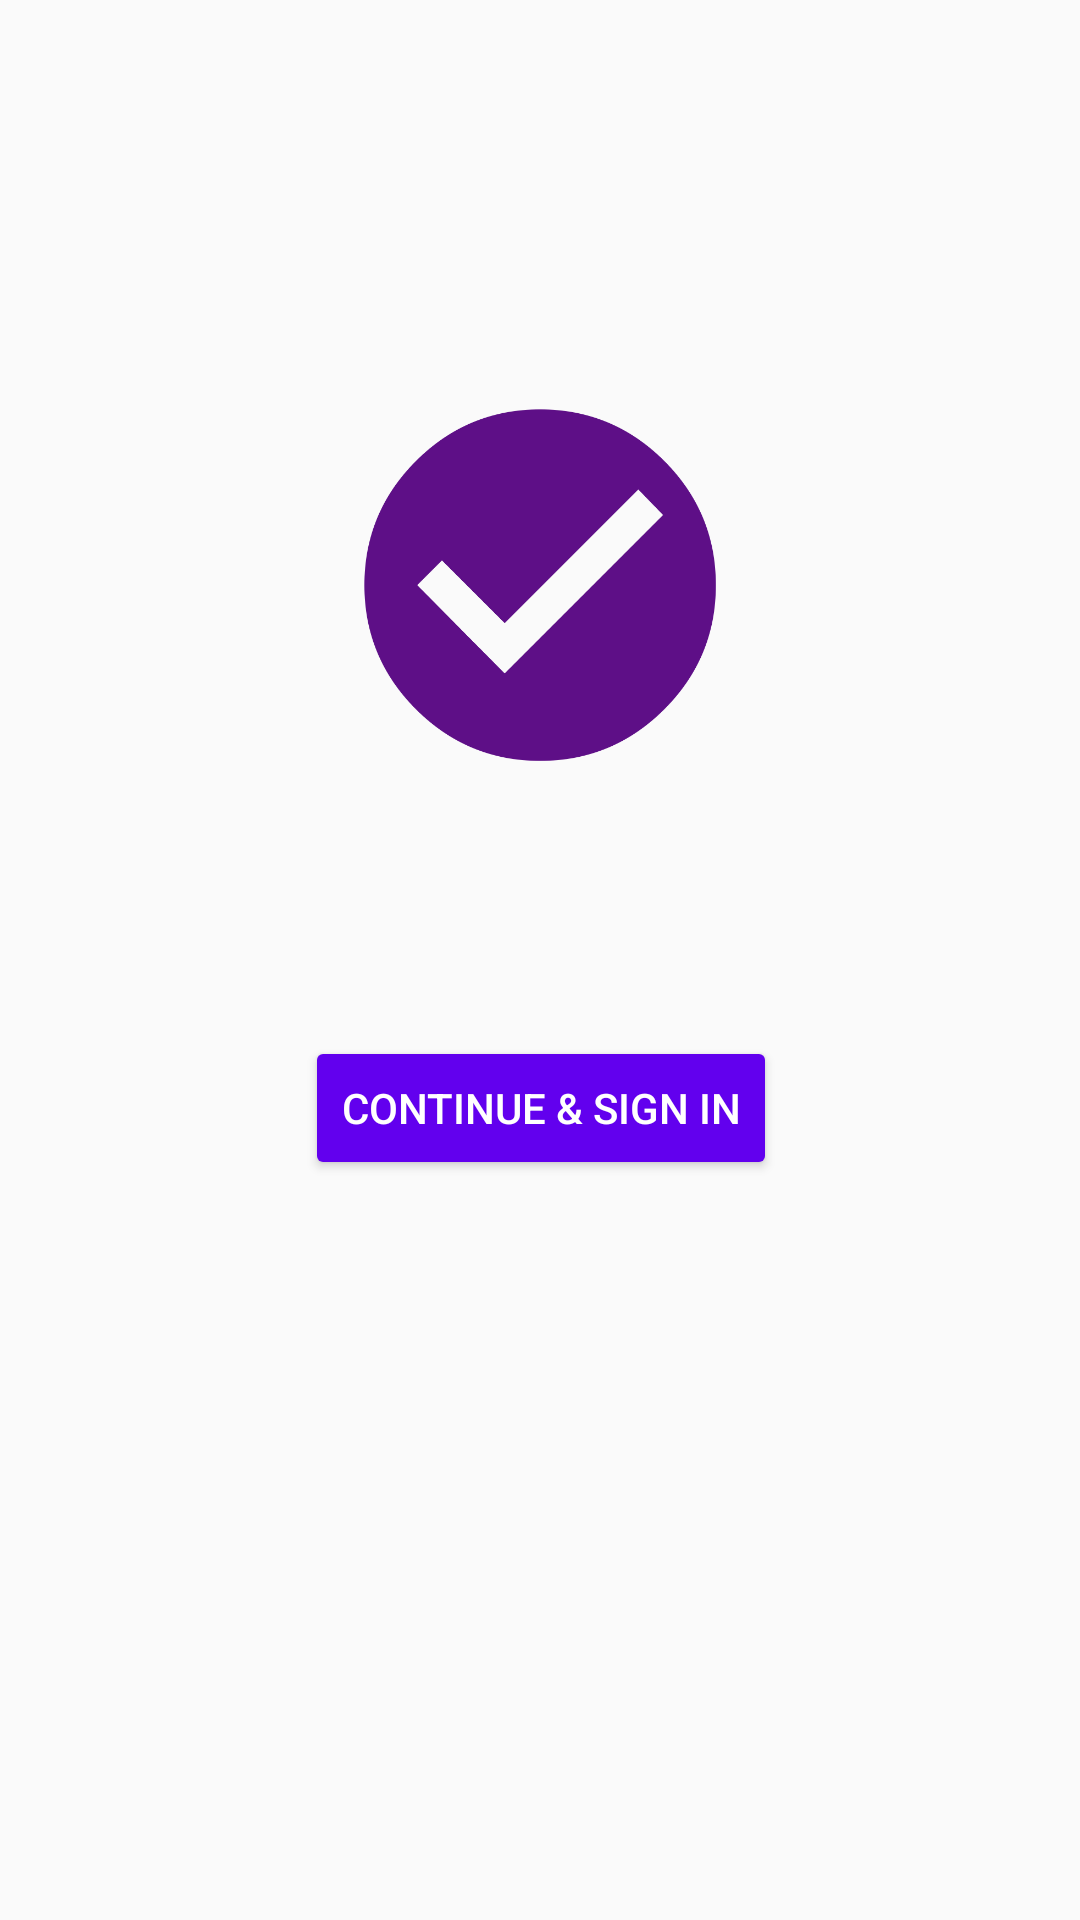

Where icons sit on this 1080w x 1920h app screen, as (x1, y1, x2, y2):
check circle: (364, 409, 716, 761)
